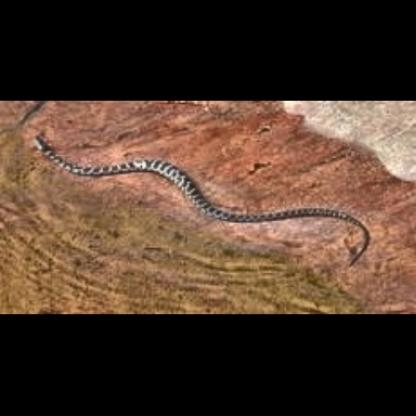Snake: (34, 127, 369, 271)
